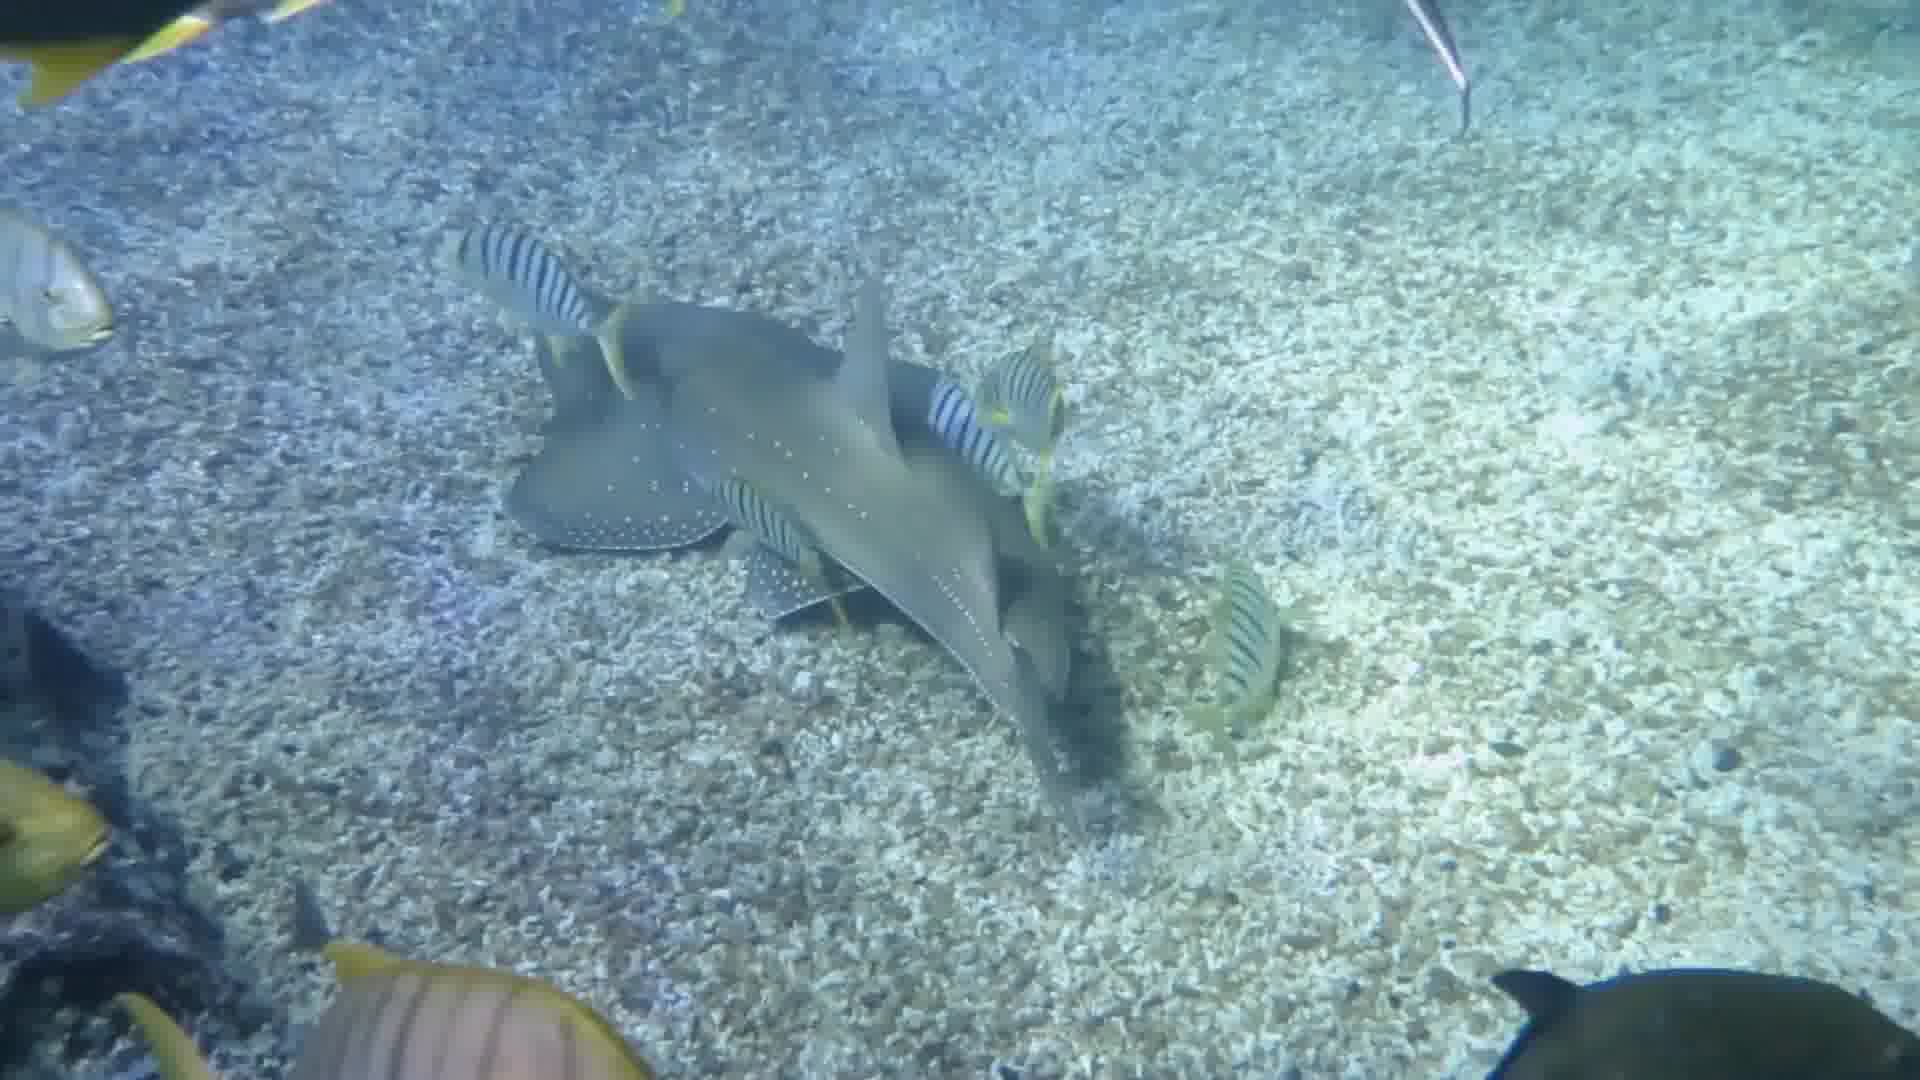Rhychobatus djiddensis: (334, 229, 1217, 855)
